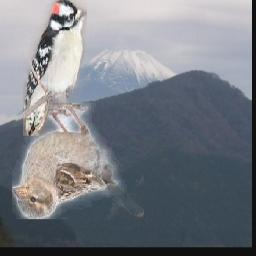Sparrow: (12, 103, 144, 219)
Woodpecker: (23, 0, 87, 136)
